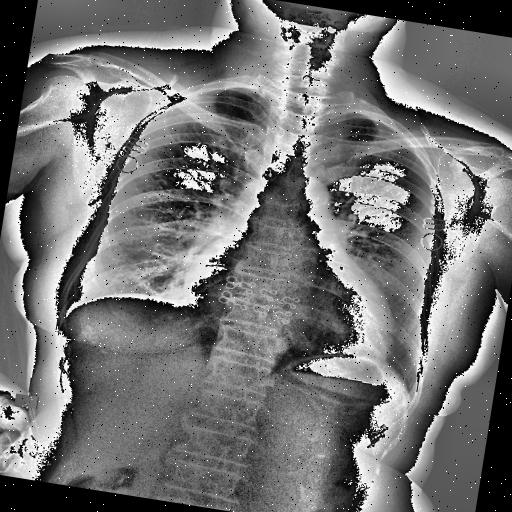3- Cardiomegaly: (174, 241, 402, 369), (176, 242, 406, 364), (174, 260, 397, 376)
